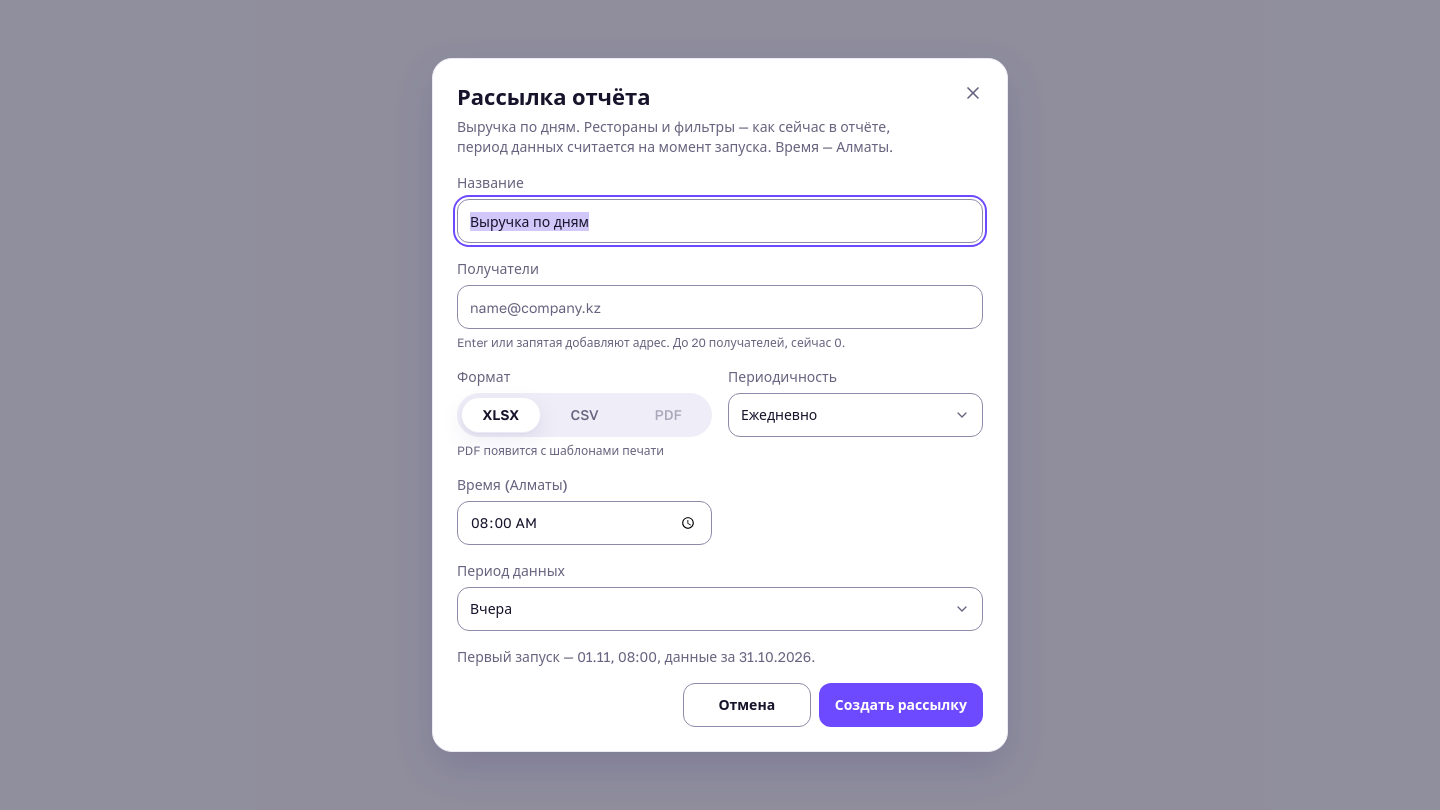
it: Рассылка отчёта (dialog) › creates a daily XLSX mailing at 08:00 for yesterday by default
This screenshot has width=1440, height=810.
expect the field labelled "Название" holds "Выручка по дням": met, box [457,199,983,243]
expect the time field labelled "Время (Алматы)" holds "08:00": met, box [457,501,712,545]
In the field labelled "Получатели": (720, 307) [466,293,974,321], type " Boss@Sandyq.test "
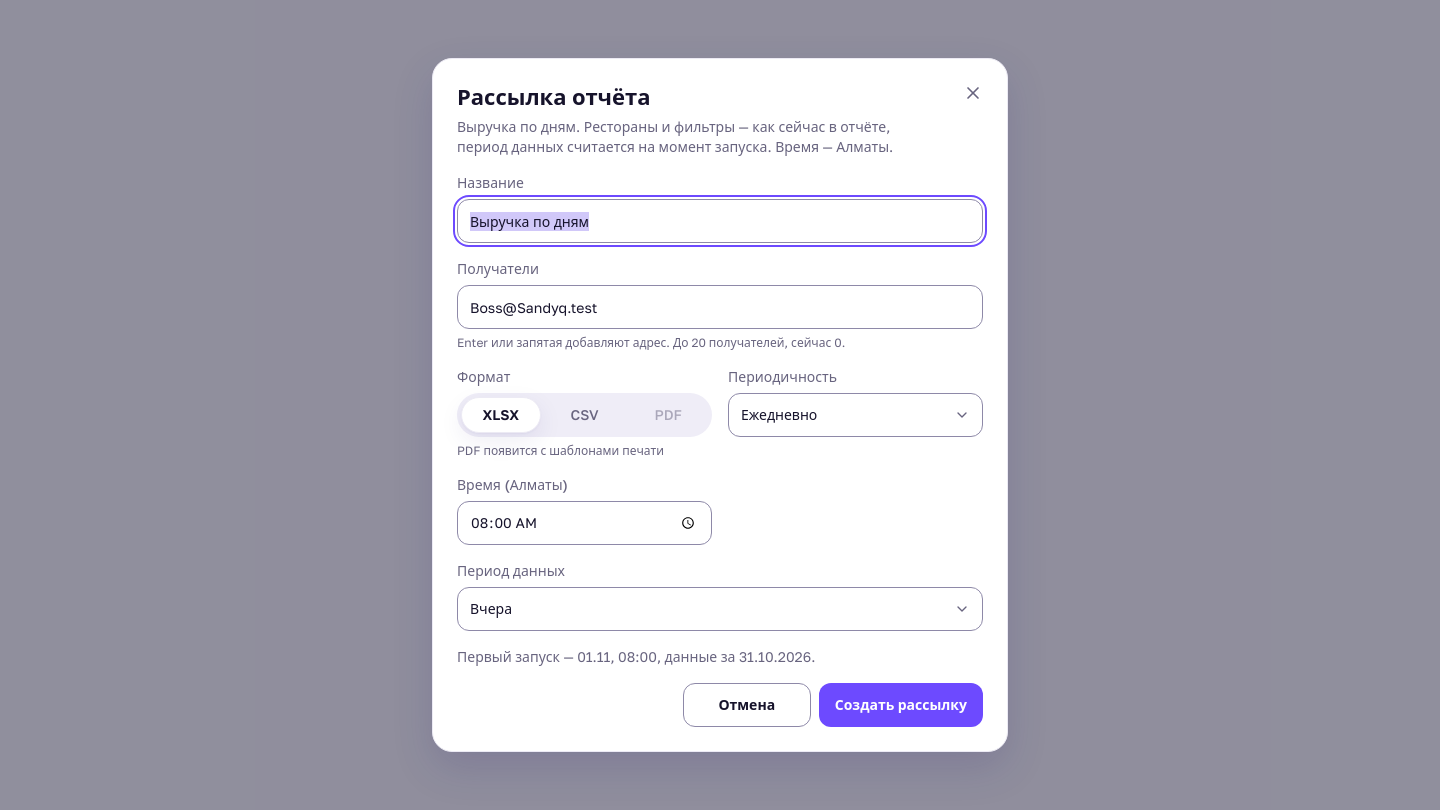
Press Enter in the field labelled "Получатели", box [466,293,974,321]
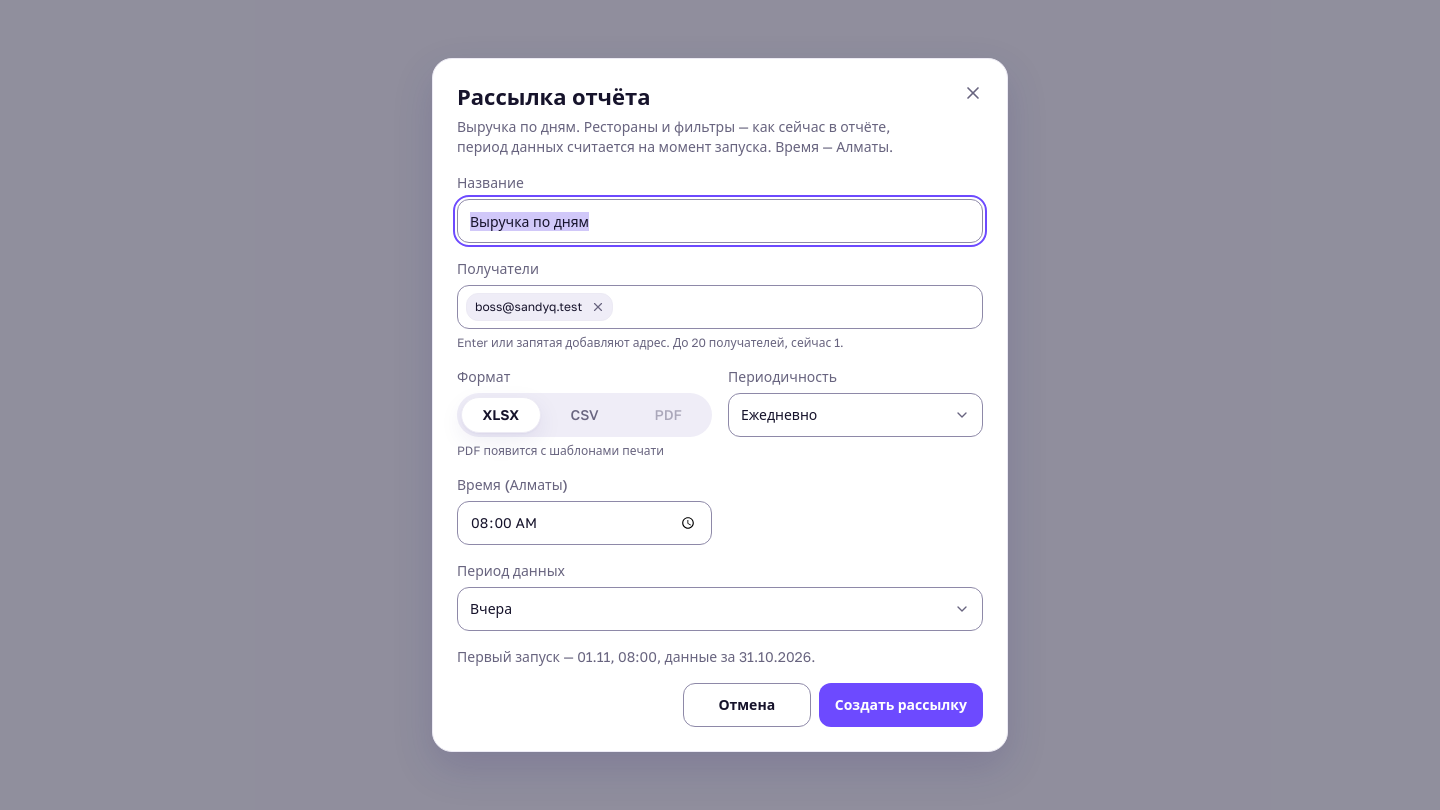
expect the list item "boss@sandyq.test" is shown: met, box [466,293,613,321]
Click the button "Создать рассылку": click(901, 705) [819,683,983,727]
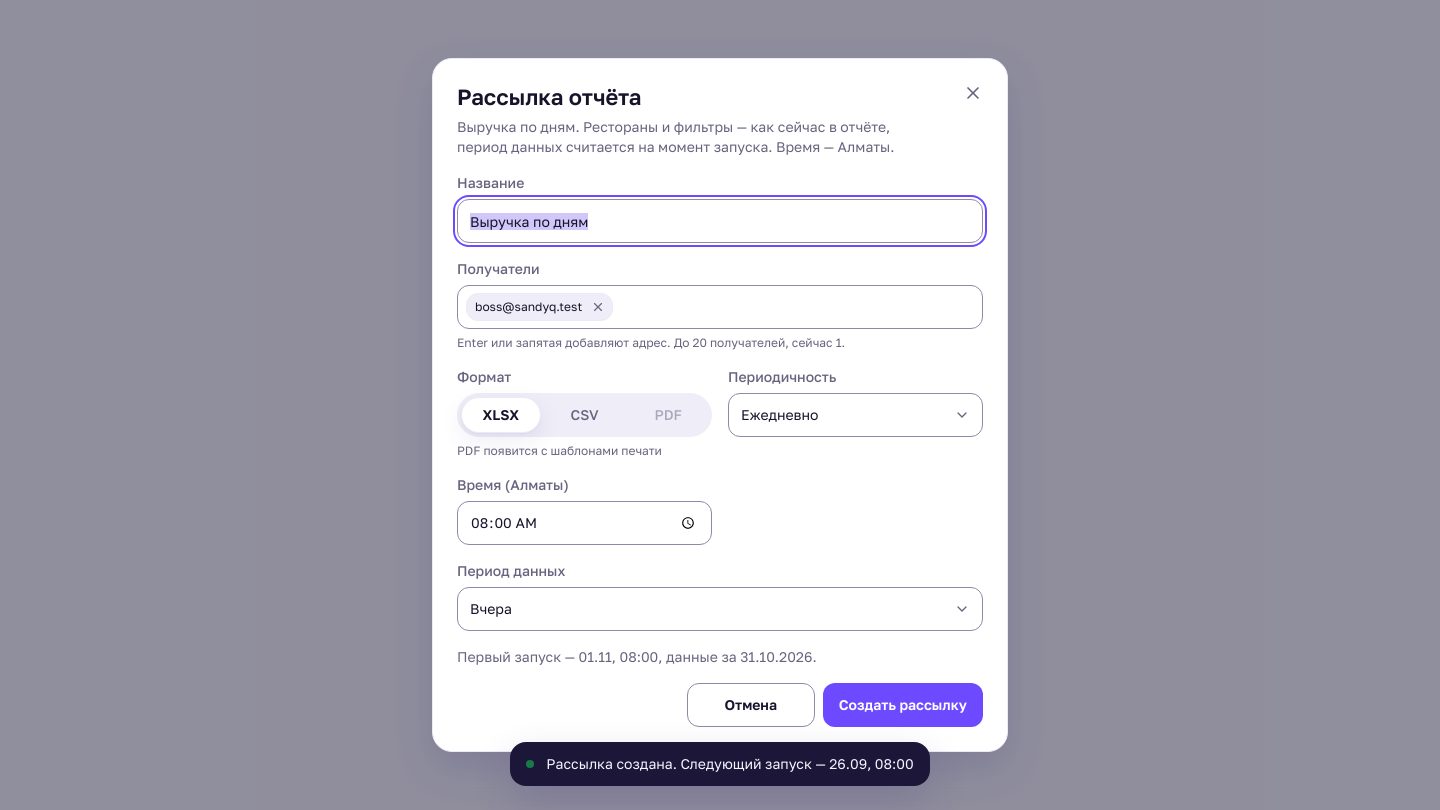
expect the text "Рассылка создана. Следующий запуск — 26.09, 08:00" is shown: met, box [510,742,930,786]
